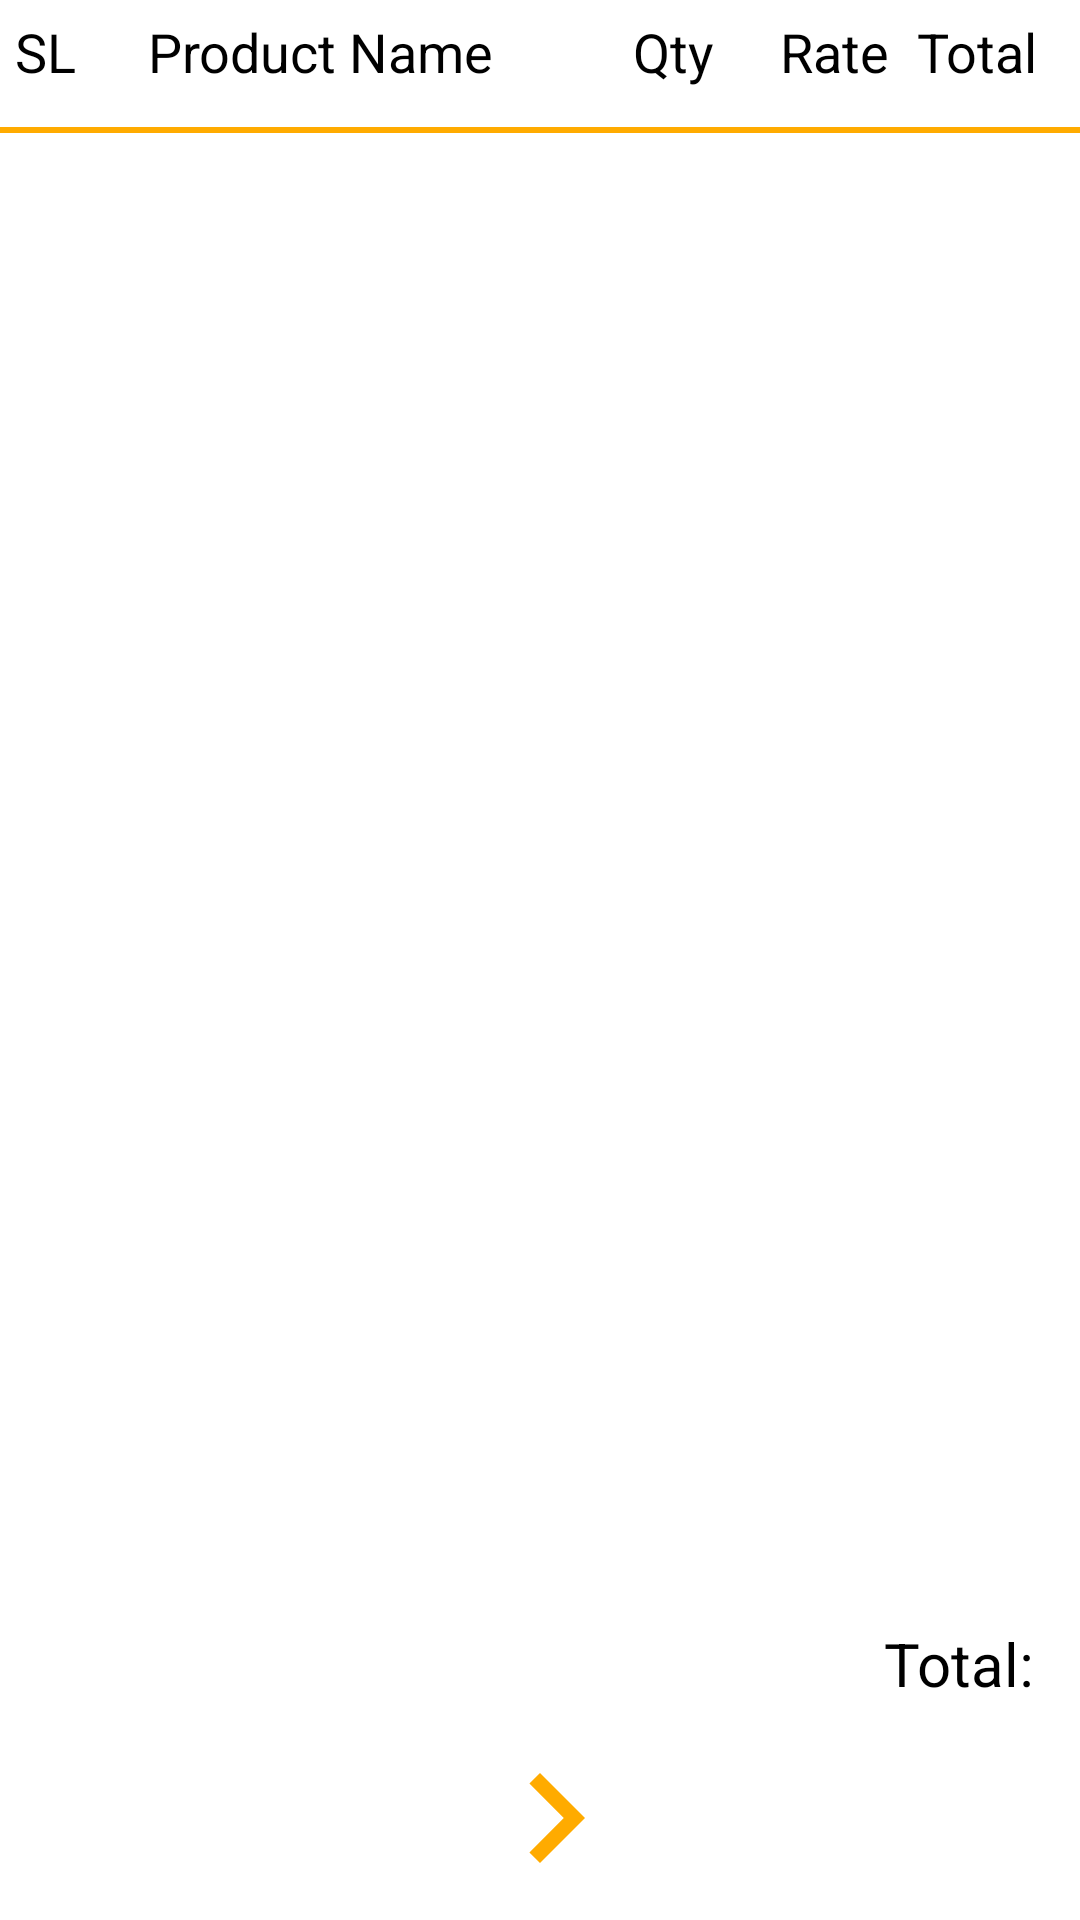

Icon bounding boxes for this 1080x1920 phone screenshot, format (x1,y1,x2,y2):
navigate next: (529,1773,585,1863)
